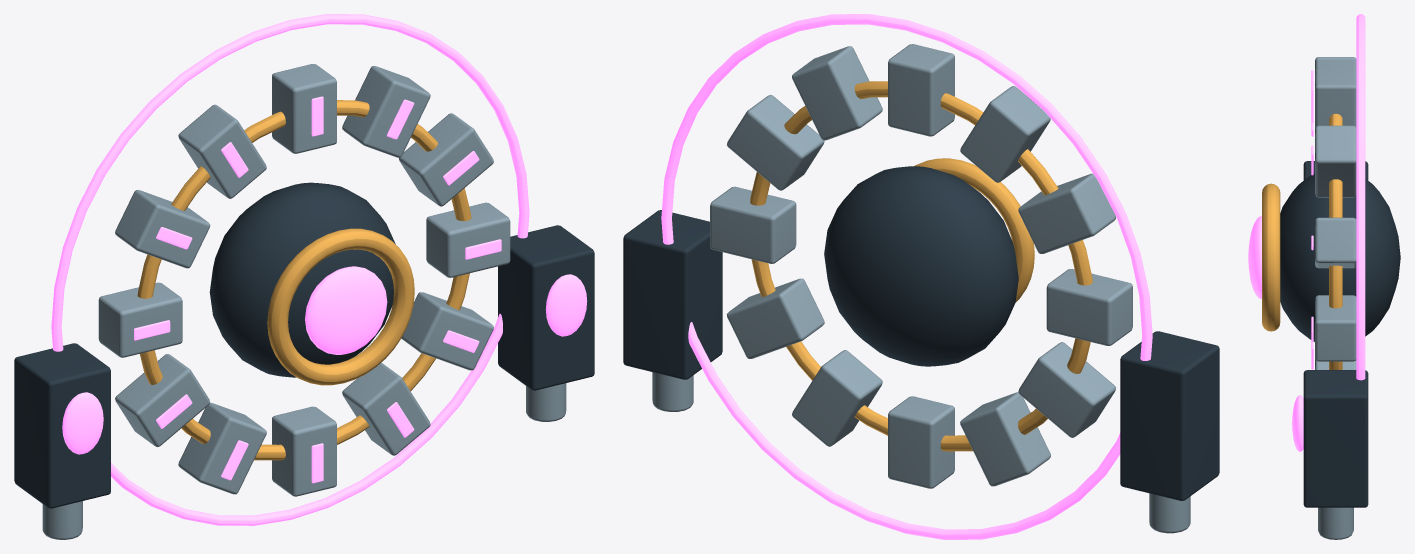
The model's file is sovereign.glb.
The picture shows the model from 3 angles, left to right: view 1: azimuth 30°, elevation 25°; view 2: azimuth 150°, elevation 25°; view 3: azimuth 270°, elevation 25°; orthographic projection. The views are drawn at different scales.
Parts seen in each view (by area): view 1: Singularity chamber, Outer eclipse corona, Floating cannon housing, Floating cannon housing.001, Inner gilded aperture, Orbital crown, CoreSocket, Radial crown armor.003, Radial crown armor.009, Radial crown armor.006, Radial crown armor, Radial crown armor.002 (+11 smaller); view 2: Singularity chamber, Outer eclipse corona, Floating cannon housing, Floating cannon housing.001, Orbital crown, Radial crown armor.003, Radial crown armor.009, Radial crown armor.006, Radial crown armor, Radial crown armor.002, Radial crown armor.008, Radial crown armor.007 (+8 smaller); view 3: Singularity chamber, Floating cannon housing.001, Outer eclipse corona, Radial crown armor.001, Inner gilded aperture, Radial crown armor.003, Radial crown armor, Radial crown armor.002, Orbital crown, Sovereign muzzle.001, CoreSocket, Cannon power cell.001 (+3 smaller).
Boxes of the visible parts, x1,y1,x2,y2 form: Singularity chamber: (209,182,395,377); Outer eclipse corona: (51,14,529,525); Floating cannon housing: (14,343,110,508); Floating cannon housing.001: (498,225,594,390); Inner gilded aperture: (267,228,414,385); Orbital crown: (137,100,471,460); CoreSocket: (305,266,387,354); Radial crown armor.003: (426,202,510,277); Radial crown armor.009: (98,282,182,357); Radial crown armor.006: (272,406,336,496); Radial crown armor: (272,64,336,153); Radial crown armor.002: (399,113,493,206); Singularity chamber: (824,166,1018,366); Outer eclipse corona: (661,14,1152,539); Floating cannon housing: (1120,331,1219,500); Floating cannon housing.001: (623,210,722,379); Orbital crown: (750,81,1092,451); Radial crown armor.003: (710,186,796,263); Radial crown armor.009: (1046,269,1132,345); Radial crown armor.006: (888,396,954,488); Radial crown armor: (888,44,954,136); Radial crown armor.002: (727,95,824,190); Radial crown armor.008: (1018,342,1115,437); Radial crown armor.007: (960,392,1050,486); Singularity chamber: (1280,173,1400,341); Floating cannon housing.001: (1303,370,1368,507); Outer eclipse corona: (1356,14,1365,380); Radial crown armor.001: (1315,125,1356,197); Inner gilded aperture: (1262,183,1280,331); Radial crown armor.003: (1315,295,1356,361); Radial crown armor: (1315,68,1356,128); Radial crown armor.002: (1315,217,1356,268); Orbital crown: (1329,113,1342,369); Sovereign muzzle.001: (1318,507,1353,539); CoreSocket: (1248,216,1261,298); Cannon power cell.001: (1292,395,1303,451).
Size of the model in its own units: 5.61 by 4.89 by 1.53.
